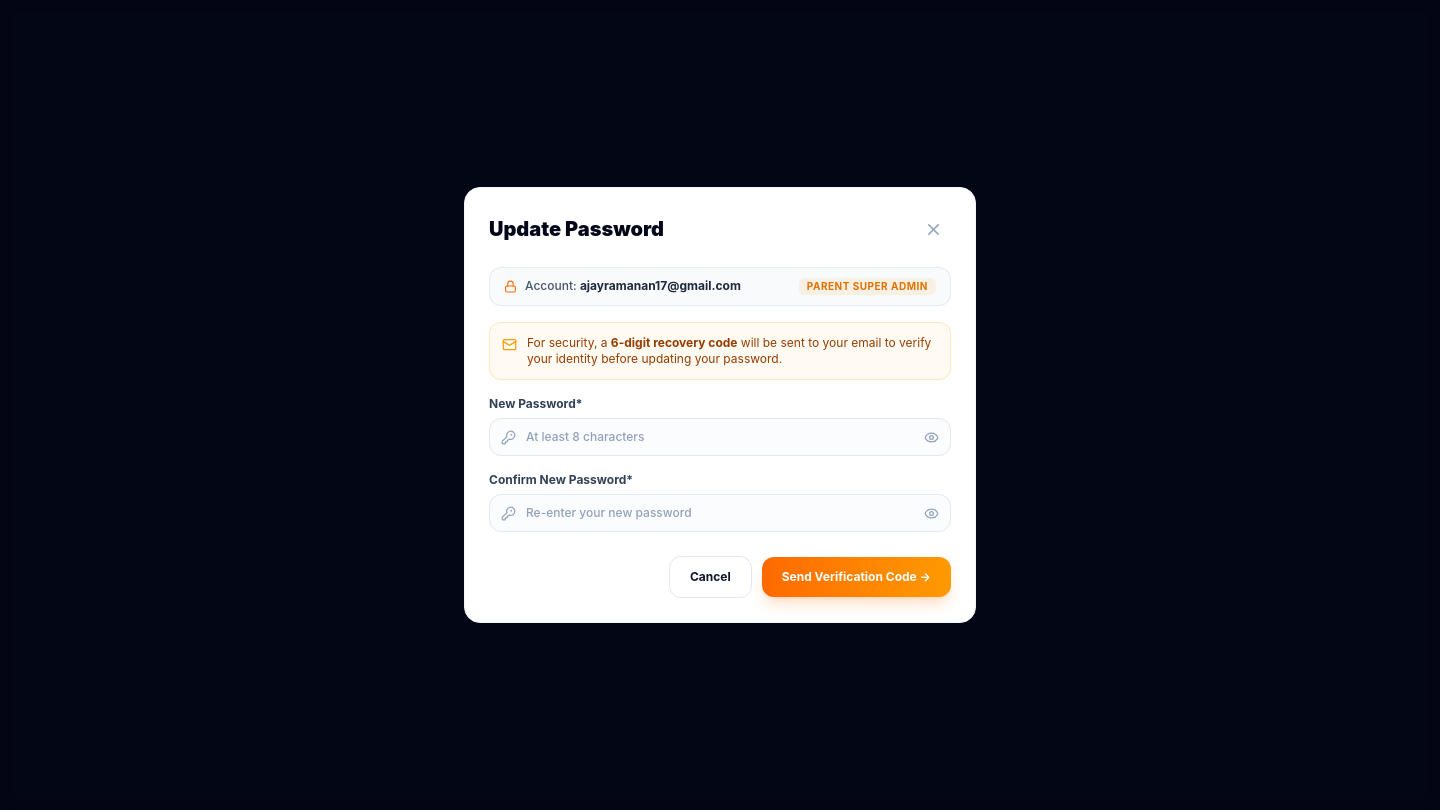
Test case: UpdatePasswordModal Component › validates password and confirm password match
This screenshot has width=1440, height=810.
Type "StrongPassword123" into the password field with test id "new-password-input" at (720, 437), box top-left (489, 418), bottom-right (951, 456)
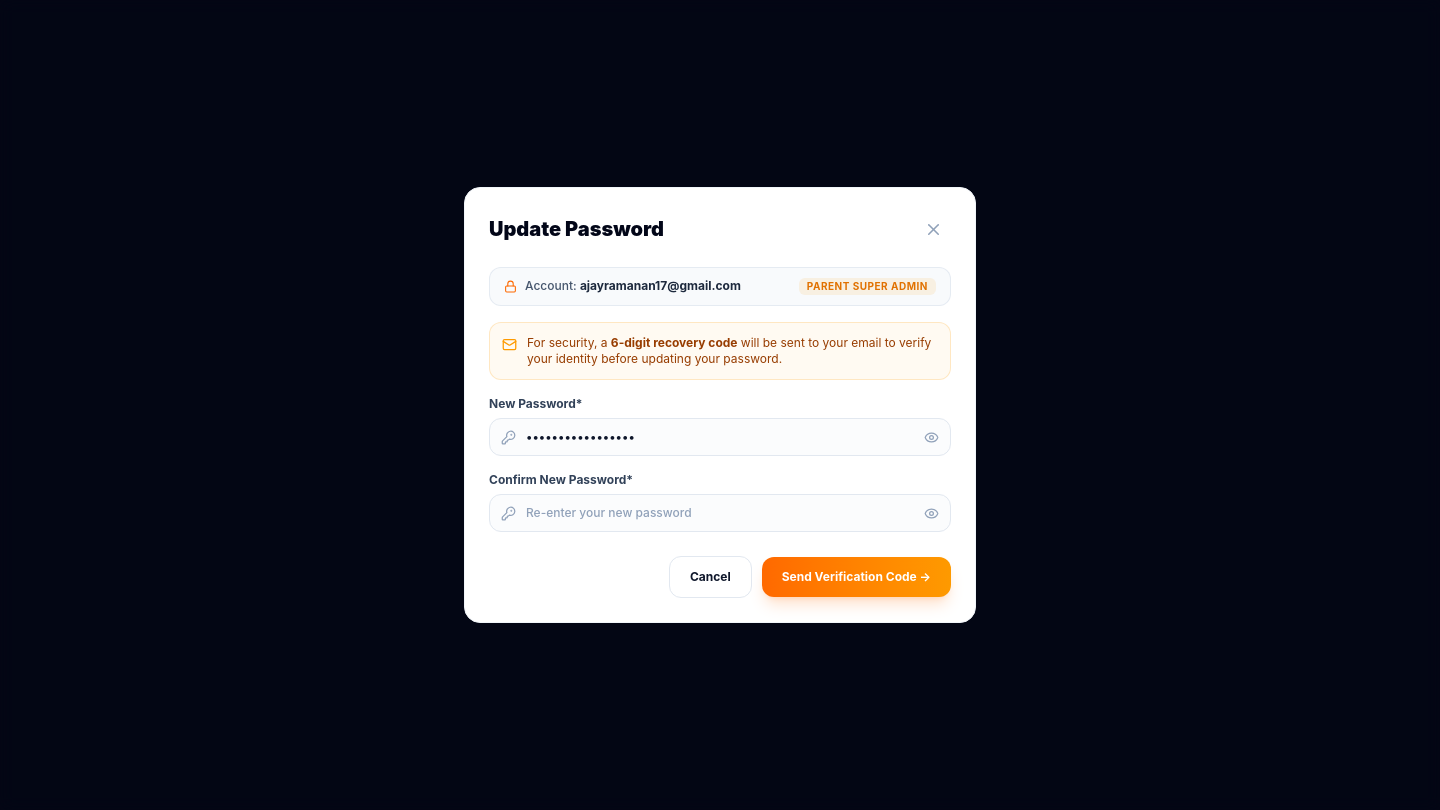
Type "DifferentPassword456" into the password field with test id "confirm-password-input" at (720, 513), box top-left (489, 494), bottom-right (951, 532)
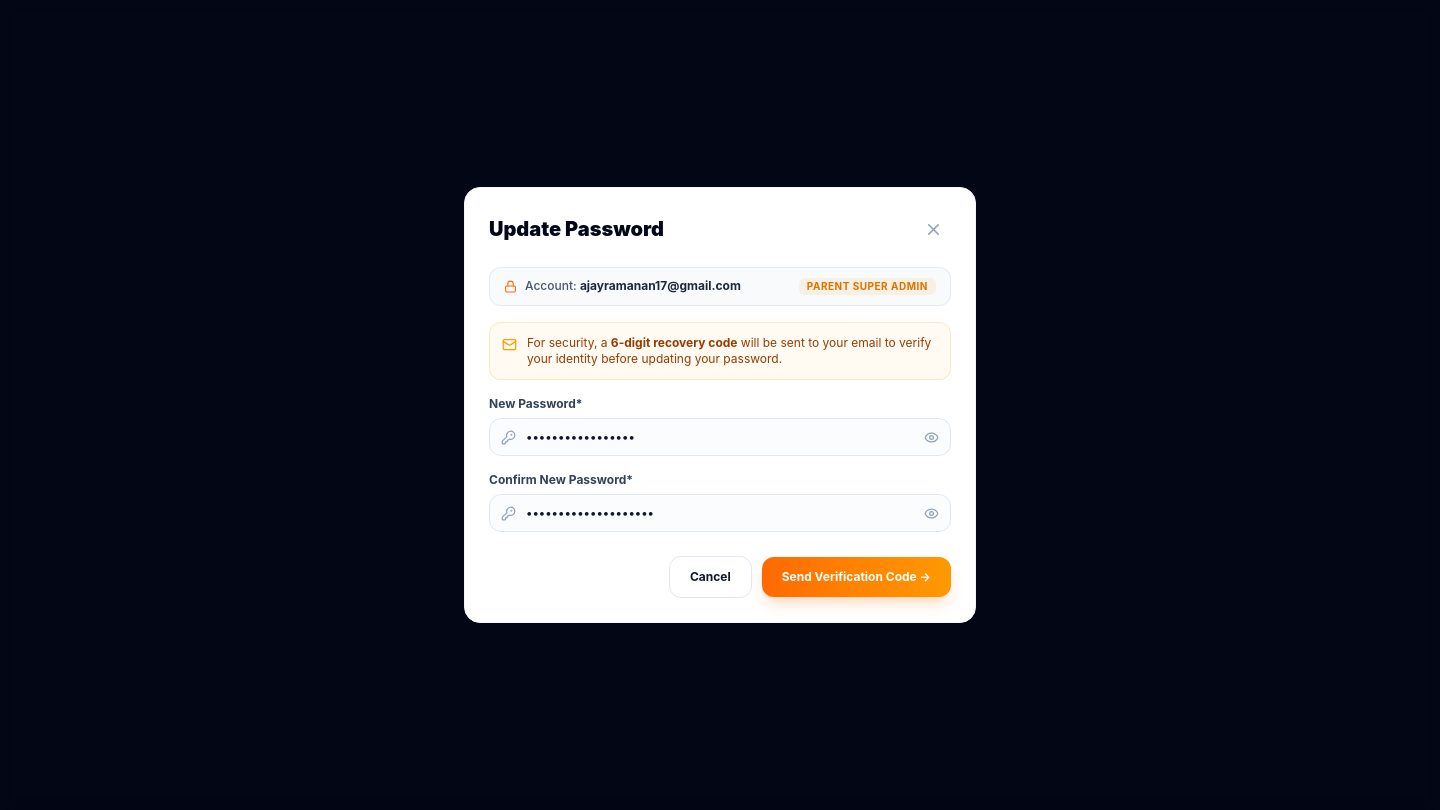
Click the button with test id "submit-update-password-btn" at (856, 577), box top-left (762, 557), bottom-right (951, 597)
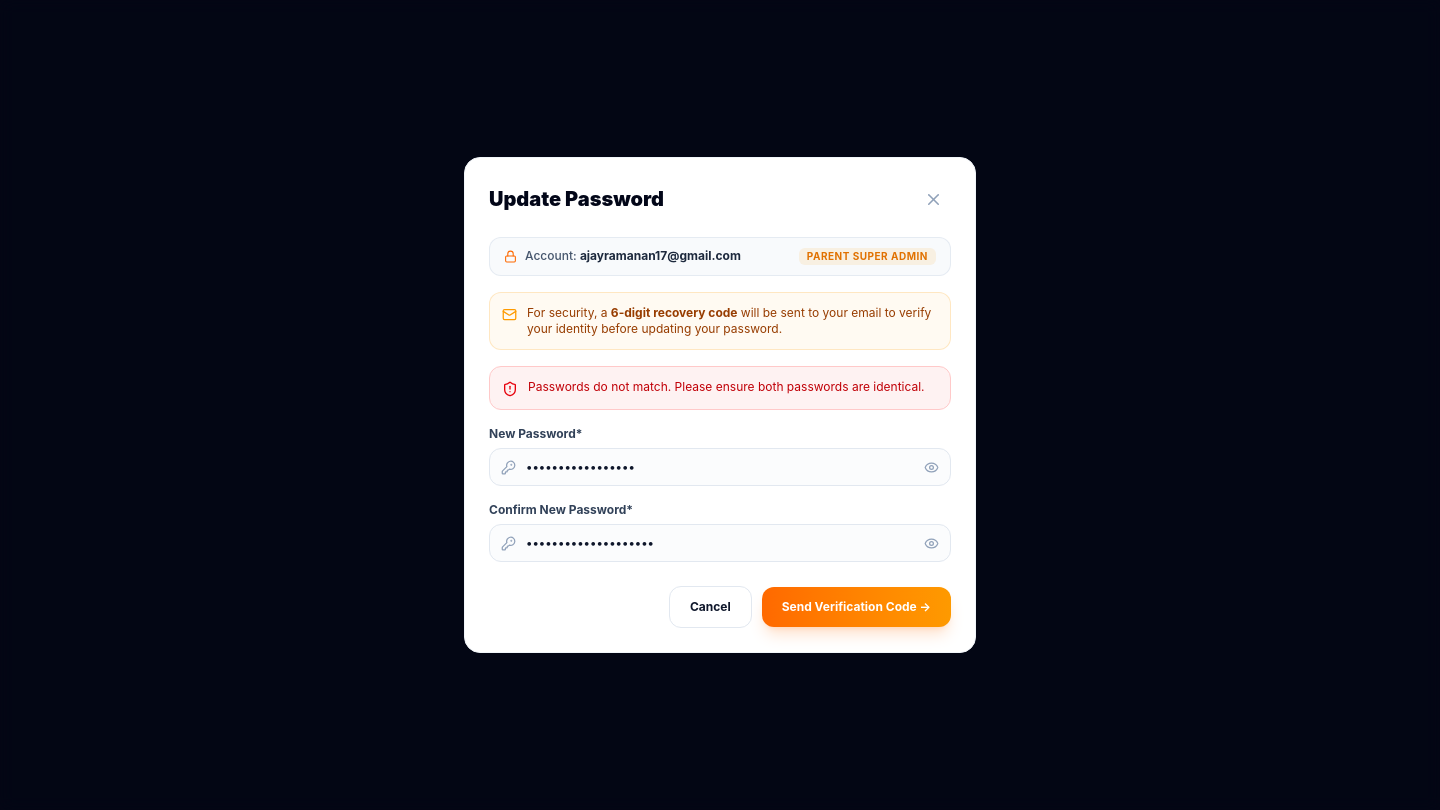
Expected: the element with test id "update-password-error" shows "Passwords do not match", top-left (528, 379), bottom-right (925, 394)
